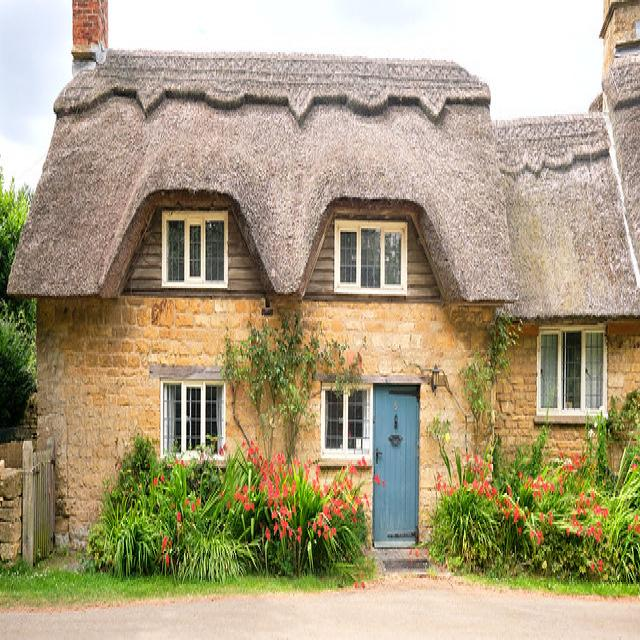Normal_building: (5, 12, 640, 603)
